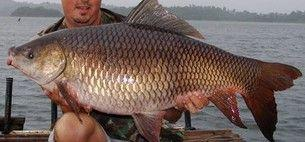Indian Carp: (9, 0, 302, 142)
